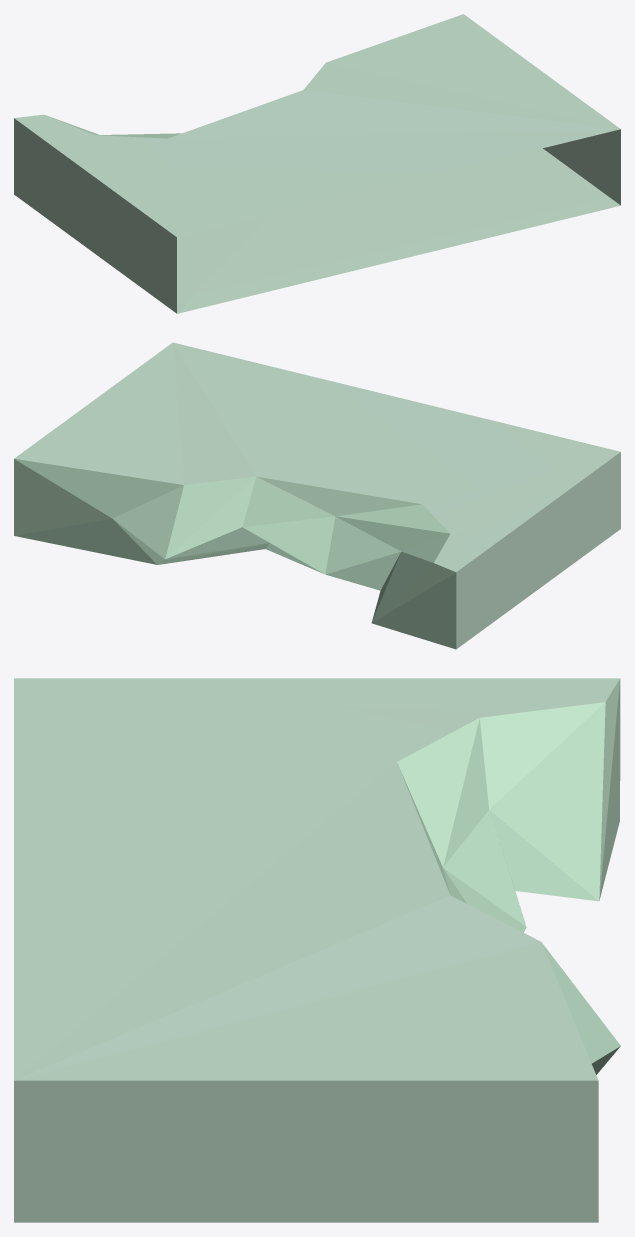
The picture shows the model from 3 angles, top to bottom: view 1: azimuth 30°, elevation 25°; view 2: azimuth 150°, elevation 25°; view 3: azimuth 270°, elevation 25°; orthographic projection. The views are drawn at different scales.
Visible parts, largest first — view 1: Object17; view 2: Object17; view 3: Object17.
Boxes of the visible parts, bbox=[...] form: Object17: bbox=[14, 14, 620, 313]; Object17: bbox=[14, 342, 620, 649]; Object17: bbox=[14, 678, 620, 1222].
Size of the model in its own units: 30168 by 5092 by 19235.
